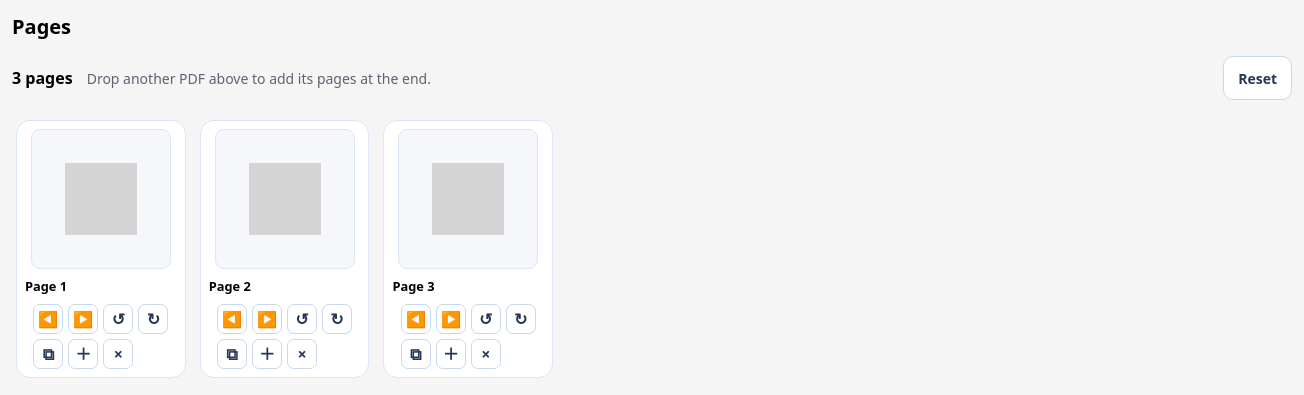
Test: OrganizeOptions › duplicates a page and inserts a same-size blank after it
Expected: the number of list items is 3, [16,120,186,378]; [200,120,369,378]; [383,120,553,378]
Click the button named "Duplicate page 1" at (48, 354), box [33,339,63,369]
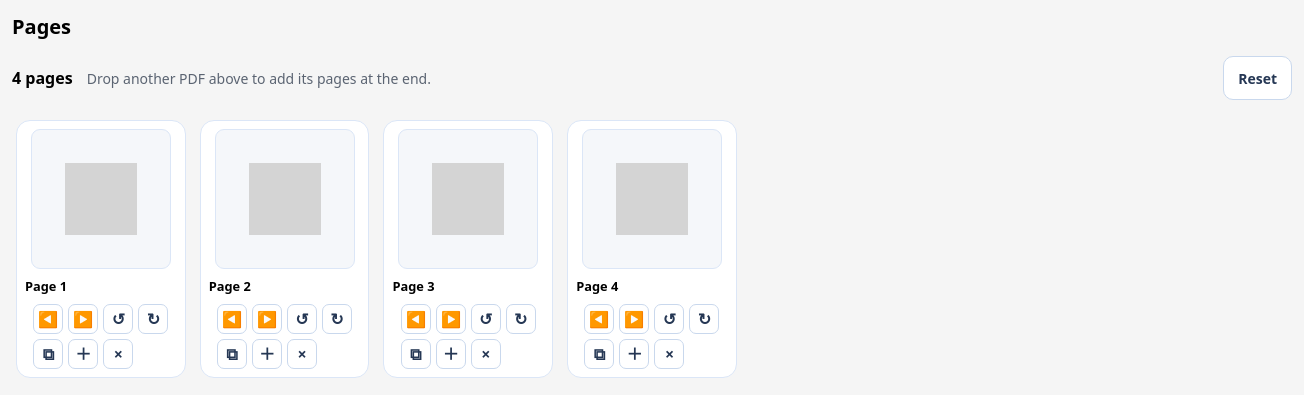
Now the number of list items is 4, box [16,120,186,378]; [200,120,369,378]; [383,120,553,378]; [567,120,737,378]
Click the button named "Insert blank page after 1" at (83, 354), box [68,339,98,369]
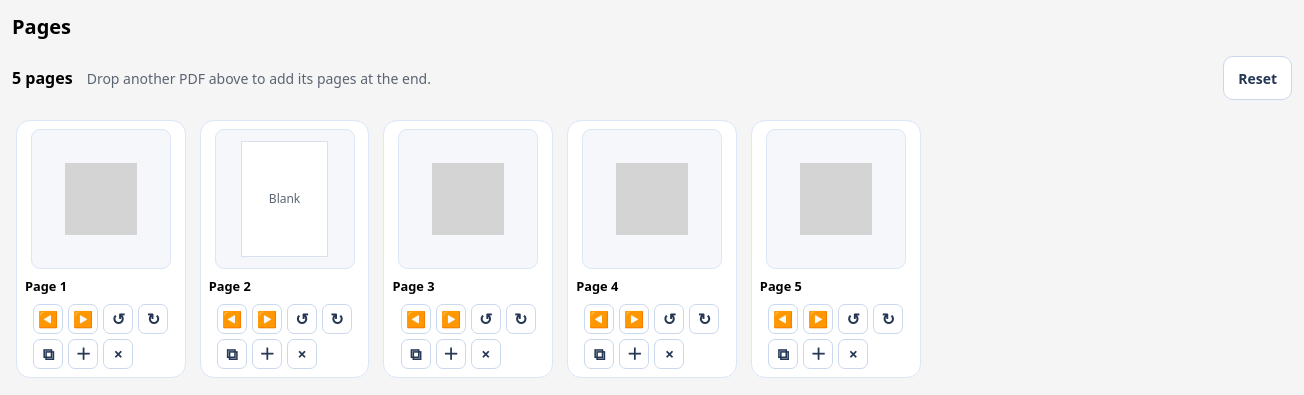
Now the number of list items is 5, box [16,120,186,378]; [200,120,369,378]; [383,120,553,378]; [567,120,737,378]; [751,120,920,378]
